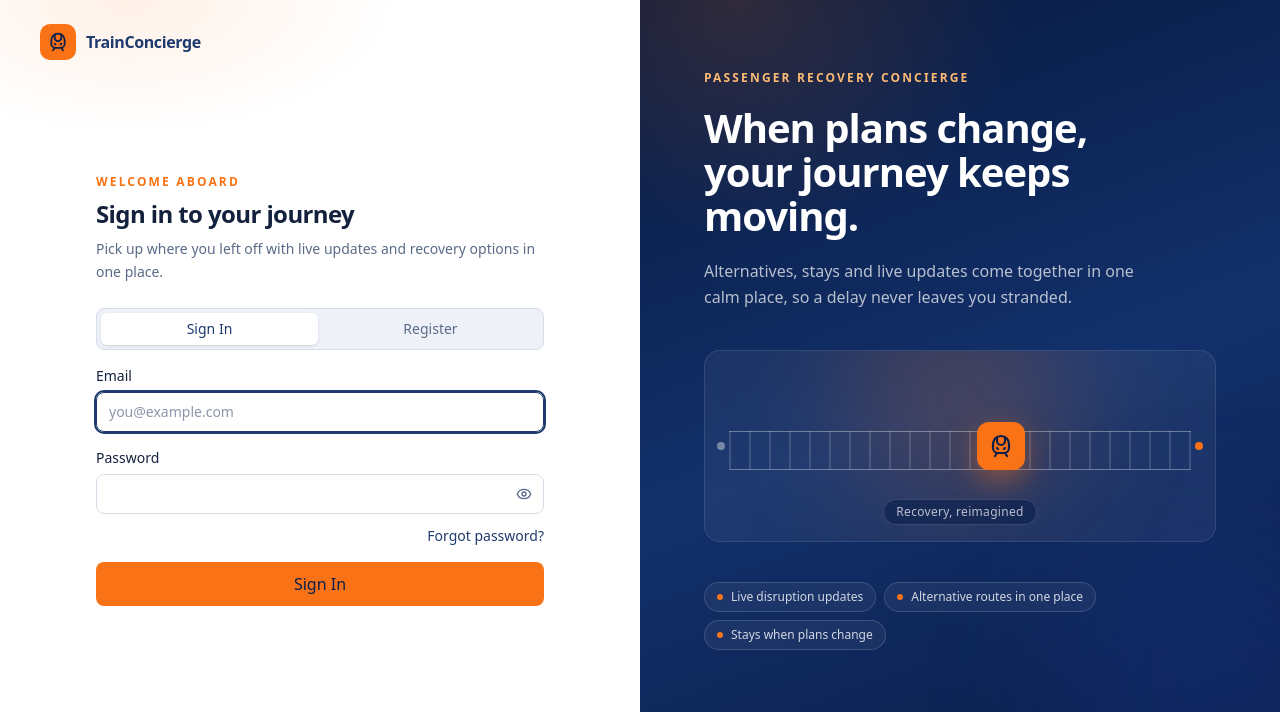
Test case: auth page › shows the sign-in form by default and links the register tab to the URL
Check: the heading "Sign in to your journey" is shown, box [96,197,354,230]
Click the tab "Register" at (430, 329), box [322,313,539,345]
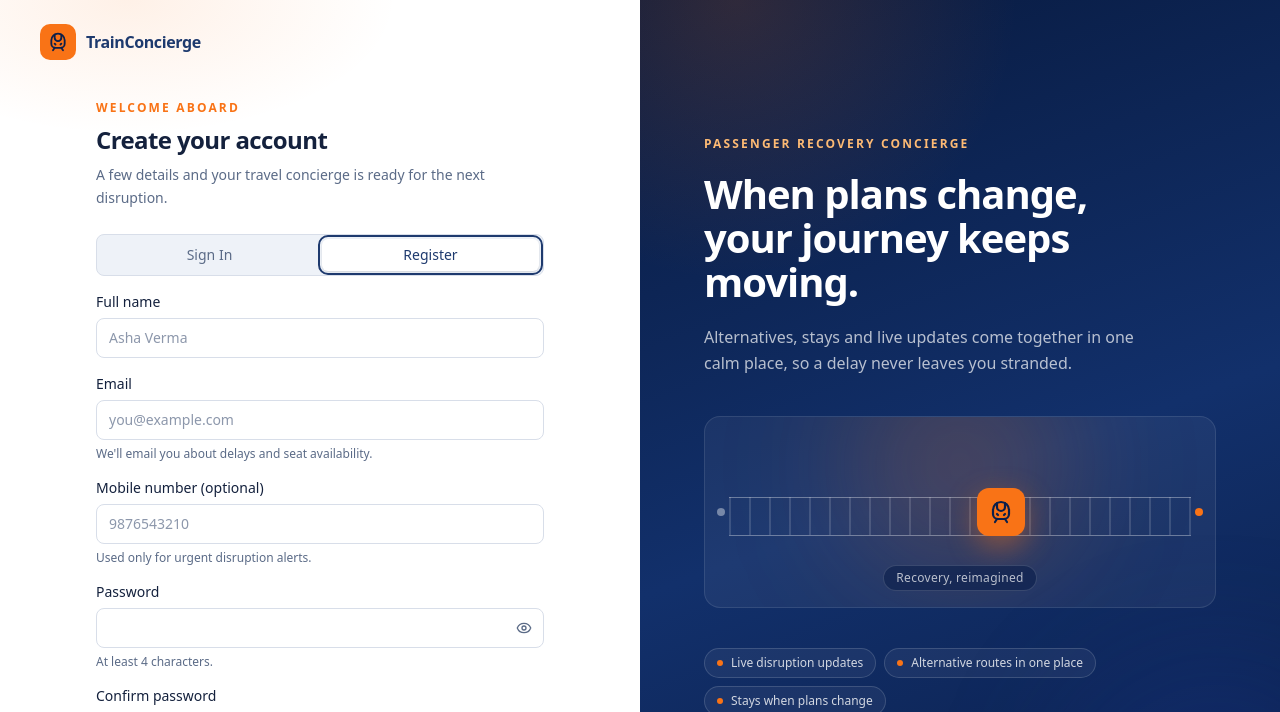
Check: the heading "Create your account" is shown, box [96,123,327,156]
